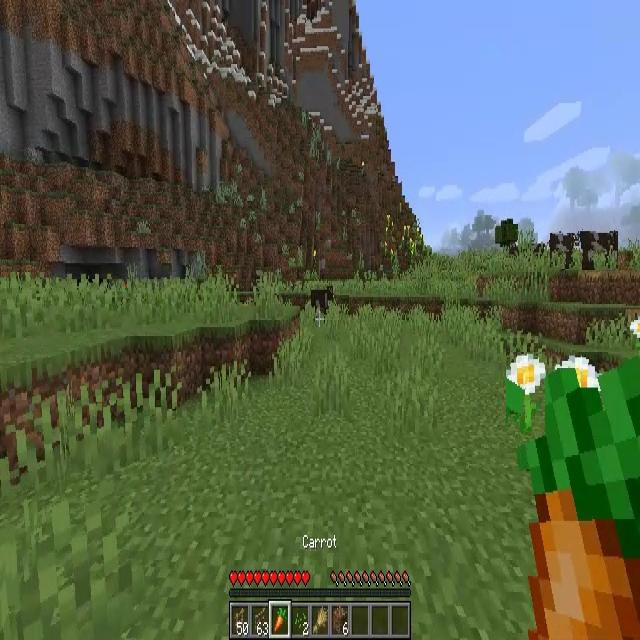cow: (579, 230, 618, 270), (550, 233, 580, 270), (310, 286, 336, 319)
flower: (506, 352, 545, 431), (556, 356, 600, 393), (629, 316, 640, 348)
